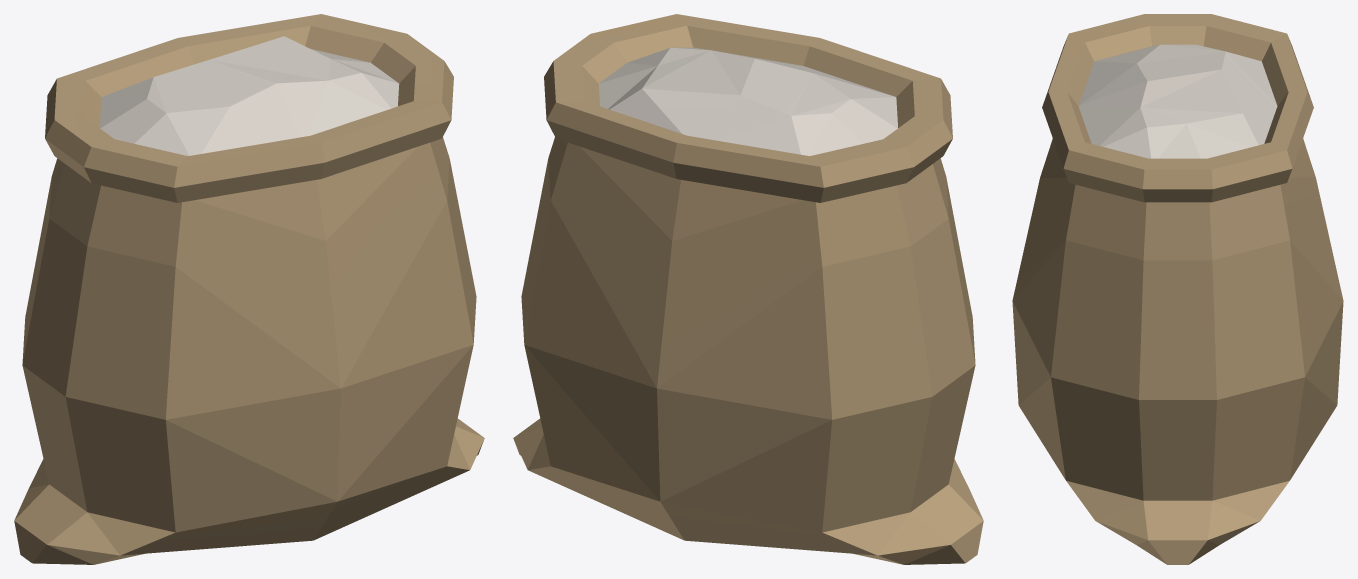
The model's file is grab-bag.glb.
3 views of the same model, side by side, from view 1: azimuth 30°, elevation 25°; view 2: azimuth 150°, elevation 25°; view 3: azimuth 270°, elevation 25° (orthographic). The views are drawn at different scales.
Parts seen in each view (by area): view 1: SM_Prop_Sack_01; view 2: SM_Prop_Sack_01; view 3: SM_Prop_Sack_01.
Part boxes in pixels (left/top/right/bottom): SM_Prop_Sack_01: left=14, top=14, right=484, bottom=564; SM_Prop_Sack_01: left=513, top=14, right=983, bottom=564; SM_Prop_Sack_01: left=1012, top=14, right=1343, bottom=564.
Bounding box in the file's own units: 0.8 × 0.7463 × 0.5683.
1 material, 1 textured.
